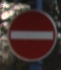No entry: (5, 6, 56, 64)
